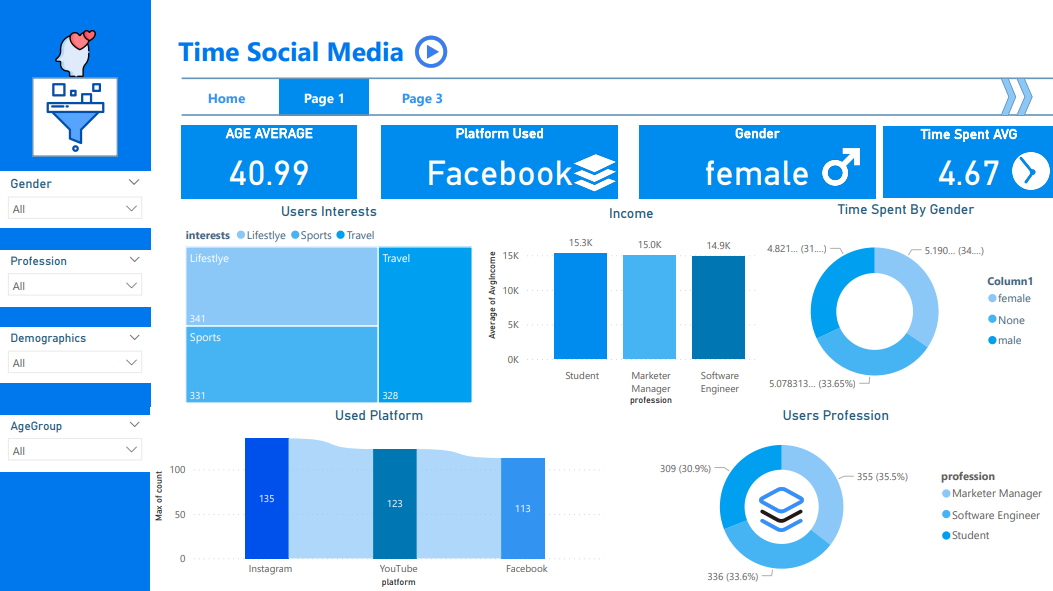

This screenshot's page, from the dashboard's own definition file:
{"tool":"powerbi","page":{"name":"Page 1","canvas":[1280,720],"ordinal":1},"visuals":[{"type":"shape","box":[0,0,183.1,719.5],"z":0},{"type":"ribbonChart","title":"Used Platform","fields":{"Category":["PlatformByGender.platform"],"Y":["Max(PlatformByGender.count)"]},"box":[183.1,494.8,555.8,224.7],"z":1000},{"type":"donutChart","title":"Users Profession","fields":{"Category":["UsersPlatforms.profession"],"Y":["Sum(UsersPlatforms.USERS)"]},"box":[750.6,494.8,529.9,224.7],"z":2000},{"type":"slicer","fields":{"Values":["PlatformByGender.Gender"]},"box":[0,210.4,183.1,67.5],"z":3000},{"type":"slicer","fields":{"Values":["UsersPlatforms.profession"]},"box":[0,305.2,183.1,67.5],"z":4000},{"type":"slicer","fields":{"Values":["demographicsUsers.Demographics"]},"box":[0,398.7,183.1,67.5],"z":5000},{"type":"slicer","fields":{"Values":["AgeGroup.AgeGroup"]},"box":[0,505.2,183.1,67.5],"z":6000},{"type":"textbox","box":[202.6,36.4,1077.9,59.7],"z":7000},{"type":"pageNavigator","box":[220.8,96.1,349.4,45.5],"z":8000},{"type":"shape","box":[220.8,93.5,1059.7,5.2],"z":9000},{"type":"shape","box":[220.8,135.1,1059.7,11.7],"z":10000},{"type":"image","box":[490.9,36.4,64.9,54.5],"z":11000},{"type":"shape","box":[40.3,96.1,102.6,94.8],"z":12000},{"type":"image","box":[40.3,96.1,102.6,94.8],"z":13000},{"type":"shape","box":[1235.1,96.1,19.5,45.5],"z":14000},{"type":"shape","box":[1215.6,96.1,19.5,45.5],"z":15000},{"type":"card","title":"AGE AVERAGE","fields":{"Values":["Sum(AvgAge.AvgAge)"]},"box":[220.8,153.2,213,88.3],"z":16000},{"type":"image","box":[533.8,153.2,233.8,50.6],"z":17000},{"type":"card","title":"Platform Used","fields":{"Values":["Min(TimePlatformByUsers.Platform)"]},"box":[463.6,153.2,287,88.3],"z":18000},{"type":"image","box":[836.3,588.2,226.2,63.1],"z":19000},{"type":"image","box":[616.9,179.2,210.4,62.3],"z":20000},{"type":"card","title":"Gender ","fields":{"Values":["Min(PlatformByGender.Gender)"]},"box":[776.6,153.2,287,88.3],"z":21000},{"type":"image","box":[900,176.6,244.2,55.8],"z":22000},{"type":"card","title":"Time Spent AVG","fields":{"Values":["Avg(TimePlatformByUsers.AvgTime)"]},"box":[1073.5,153.6,207,87.7],"z":23000},{"type":"image","box":[1226,176.6,54.5,64.9],"z":24000},{"type":"treemap","title":"Users Interests","fields":{"Values":["Sum(interestsUsers.USERS)"],"Group":["interestsUsers.interests"]},"box":[220.8,246.8,358.4,248.1],"z":25000},{"type":"clusteredColumnChart","title":"Income","fields":{"Category":["AvgProfUsers.profession"],"Y":["Avg(AvgProfUsers.AvgIncome)"]},"box":[588.2,249.5,359.2,248.2],"z":26000},{"type":"donutChart","title":"Time Spent By Gender","fields":{"Category":["TimeAvgByGender_24.Column1"],"Y":["Sum(TimeAvgByGender_24.Column2)"]},"box":[921.3,245.4,359.2,249.5],"z":27000},{"type":"image","box":[59,32.9,65.8,65.8],"z":27001}]}

Visuals, with their boxes in screenshot pixels (x1, y1, x2, y2), scaled from the page's 1280x720 canvas onto the 1053x591 screenshot:
shape: x1=0 y1=0 x2=151 y2=590
"Used Platform" ribbonChart: x1=151 y1=406 x2=608 y2=590
"Users Profession" donutChart: x1=617 y1=406 x2=1052 y2=590
slicer - PlatformByGender.Gender: x1=0 y1=173 x2=151 y2=228
slicer - UsersPlatforms.profession: x1=0 y1=251 x2=151 y2=306
slicer - demographicsUsers.Demographics: x1=0 y1=327 x2=151 y2=383
slicer - AgeGroup.AgeGroup: x1=0 y1=415 x2=151 y2=470
textbox: x1=167 y1=30 x2=1052 y2=79
pageNavigator: x1=182 y1=79 x2=469 y2=116
shape: x1=182 y1=77 x2=1052 y2=81
shape: x1=182 y1=111 x2=1052 y2=120
image: x1=404 y1=30 x2=457 y2=75
shape: x1=33 y1=79 x2=118 y2=157
image: x1=33 y1=79 x2=118 y2=157
shape: x1=1016 y1=79 x2=1032 y2=116
shape: x1=1000 y1=79 x2=1016 y2=116
"AGE AVERAGE" card: x1=182 y1=126 x2=357 y2=198
image: x1=439 y1=126 x2=631 y2=167
"Platform Used" card: x1=381 y1=126 x2=617 y2=198
image: x1=688 y1=483 x2=874 y2=535
image: x1=507 y1=147 x2=681 y2=198
"Gender " card: x1=639 y1=126 x2=875 y2=198
image: x1=740 y1=145 x2=941 y2=191
"Time Spent AVG" card: x1=883 y1=126 x2=1052 y2=198
image: x1=1009 y1=145 x2=1052 y2=198
"Users Interests" treemap: x1=182 y1=203 x2=476 y2=406
"Income" clusteredColumnChart: x1=484 y1=205 x2=779 y2=409
"Time Spent By Gender" donutChart: x1=758 y1=201 x2=1052 y2=406
image: x1=49 y1=27 x2=103 y2=81
